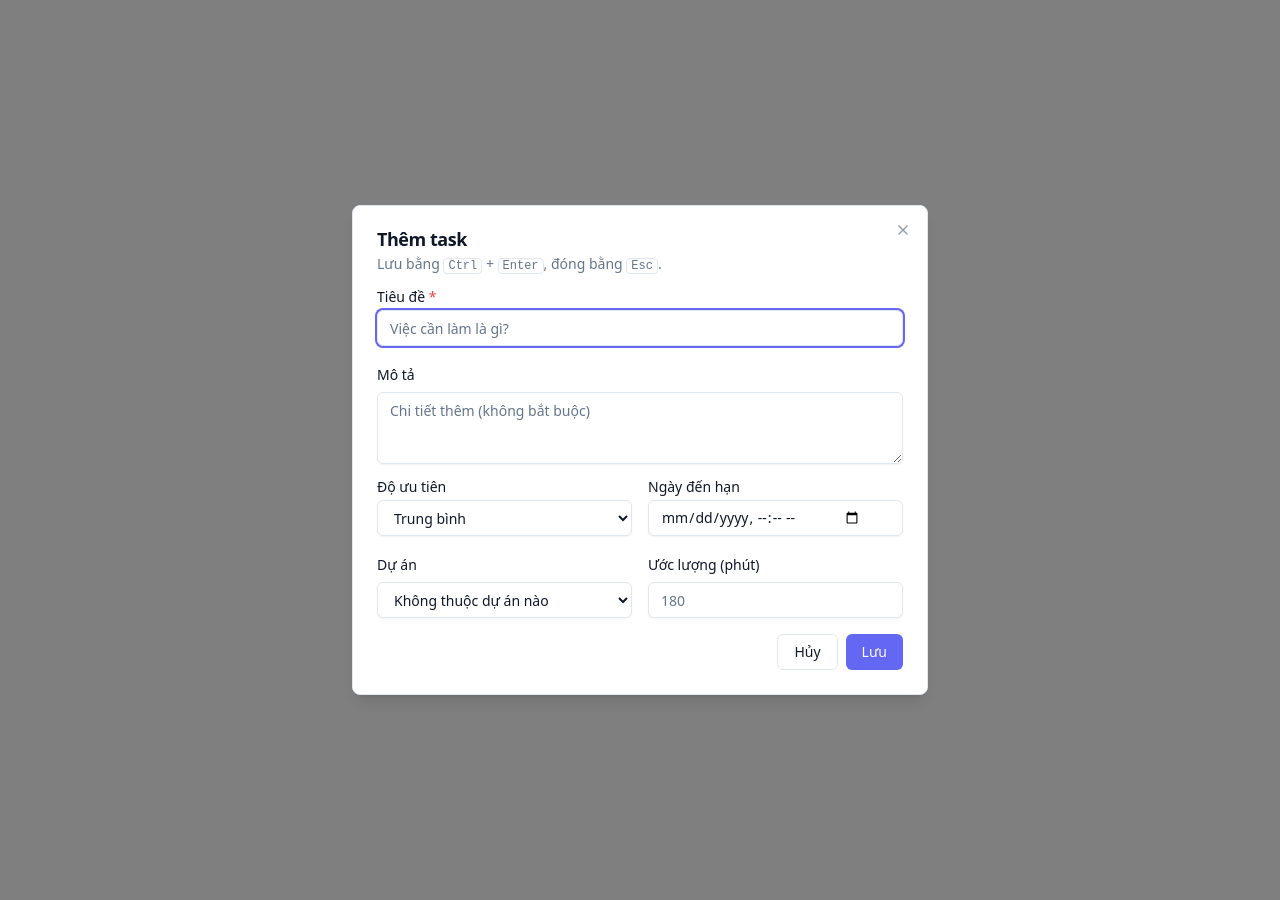
it: TaskFormDialog › Ước lượng thời gian bằng 0 bị chặn trước khi gọi API
Type "Task hợp lệ" into the field labelled "Tiêu đề *".
click(640, 328); type("Task hợp lệ")  # box [377,310,903,346]
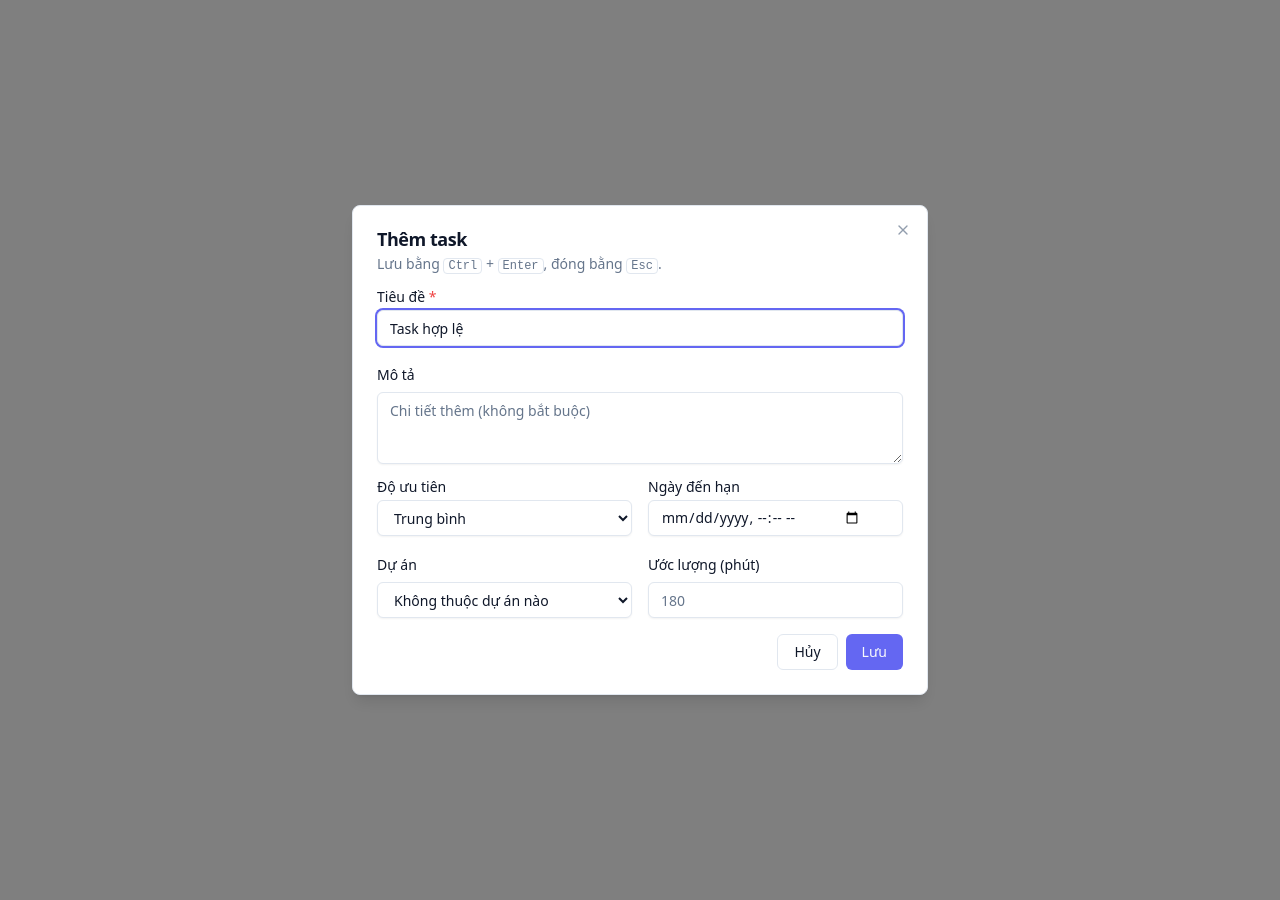
Type "0" into the number field labelled "Ước lượng (phút)".
click(776, 600); type("0")  # box [648,582,903,618]
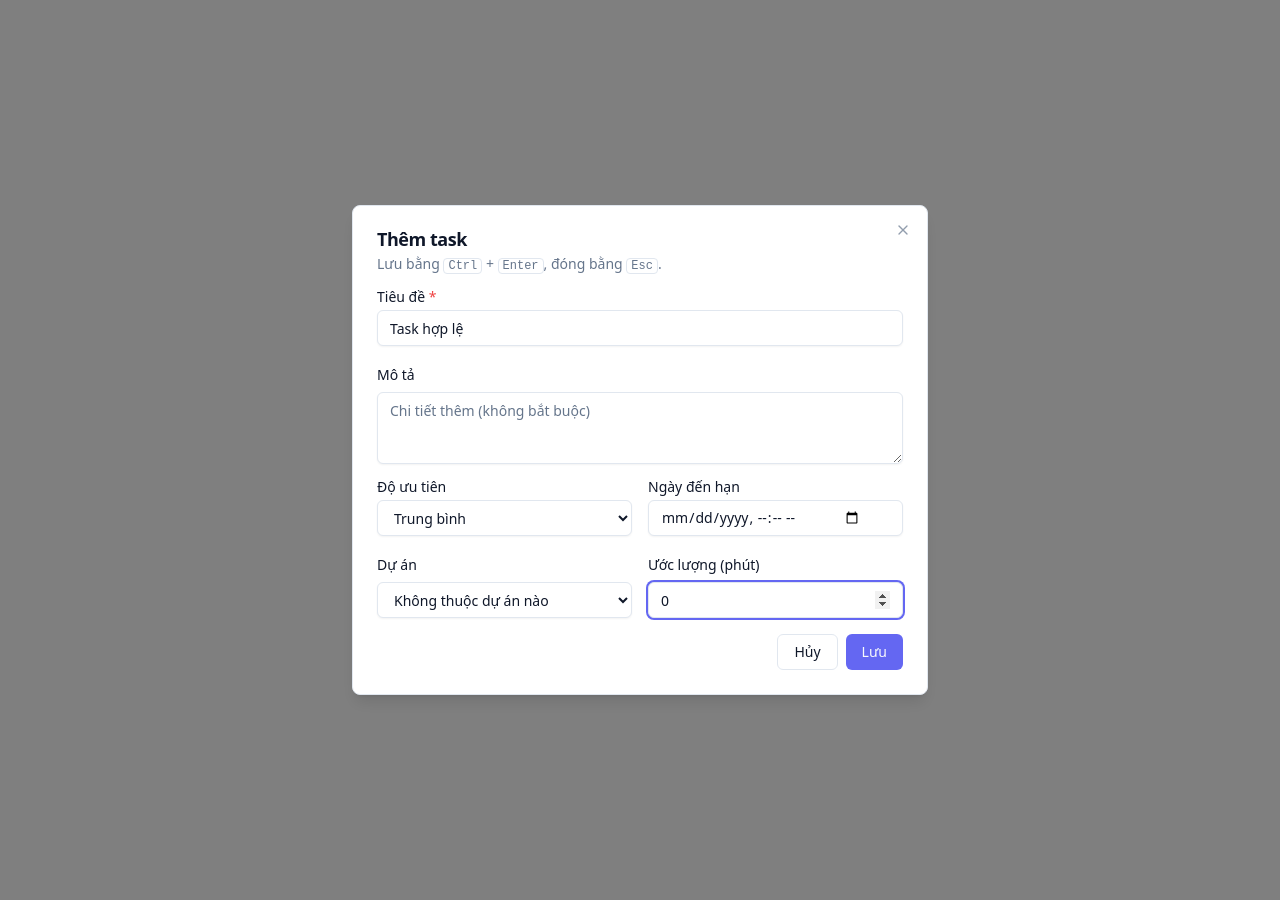
Click the button "Lưu".
click(874, 652)  # box [846,634,903,670]
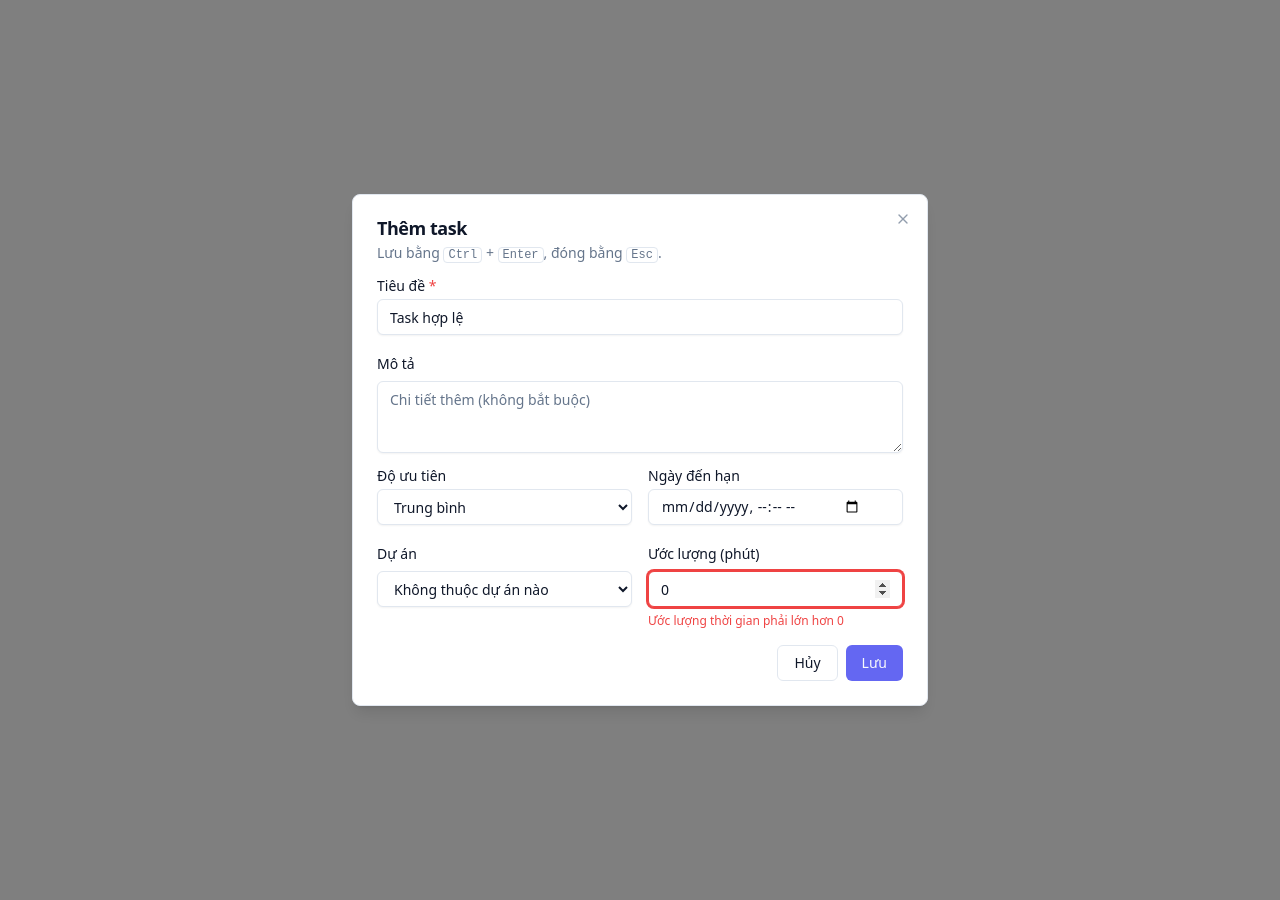
Now the message shows "lớn hơn 0", box [648,612,844,629]
